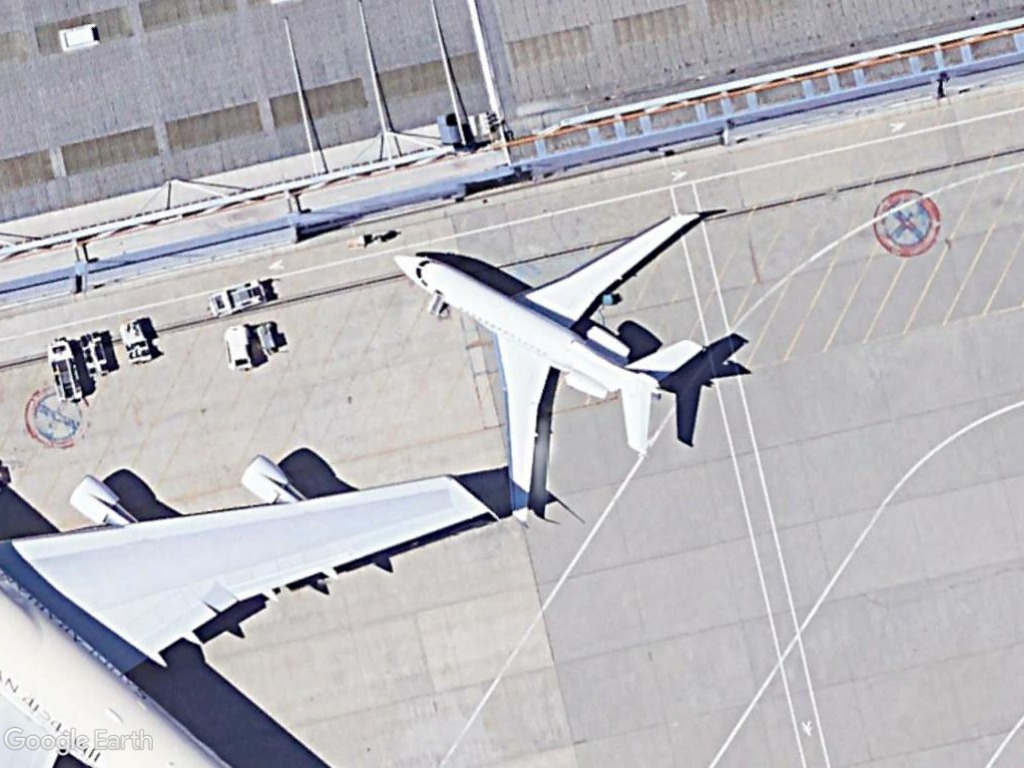chartered: (385, 206, 712, 533)
pushback: (204, 274, 268, 321), (44, 337, 86, 405)
